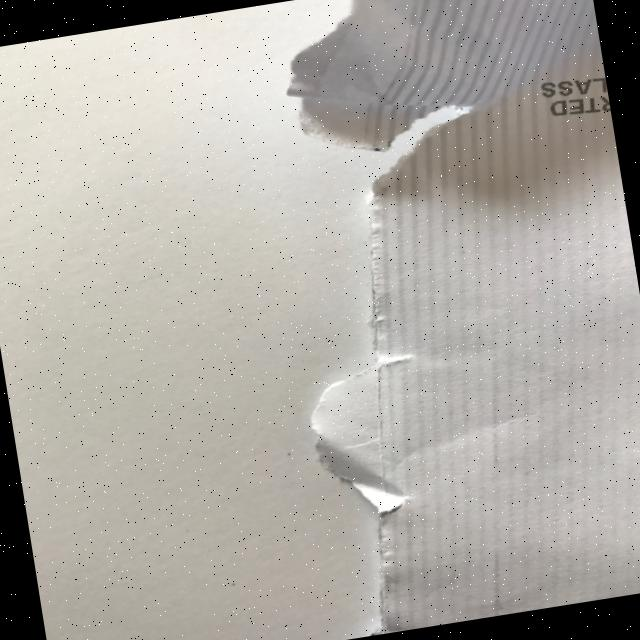paper: (0, 0, 640, 640), (272, 0, 611, 166)
